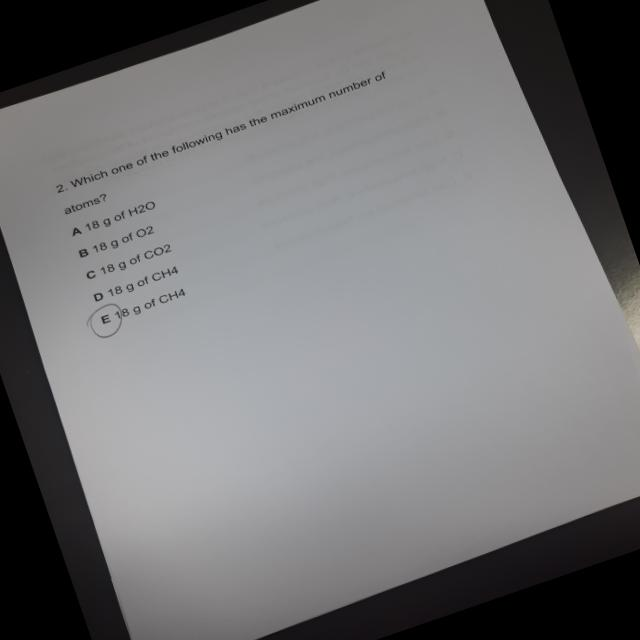E: (82, 300, 132, 346)
